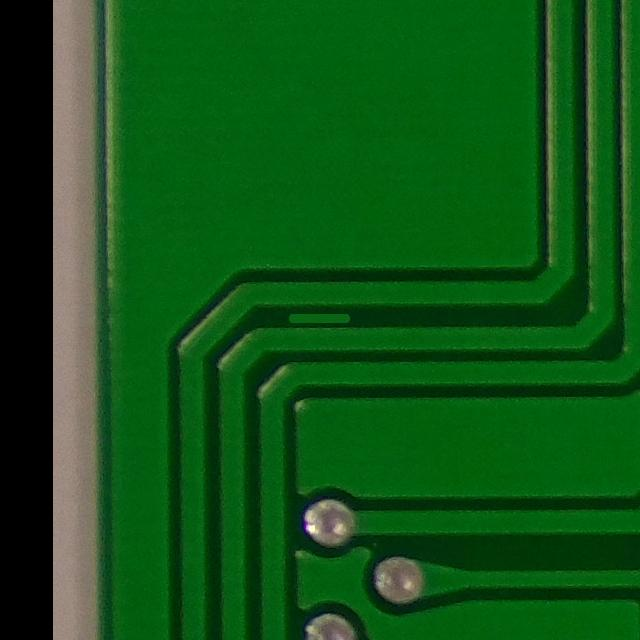spurious_copper: (281, 298, 359, 342)
